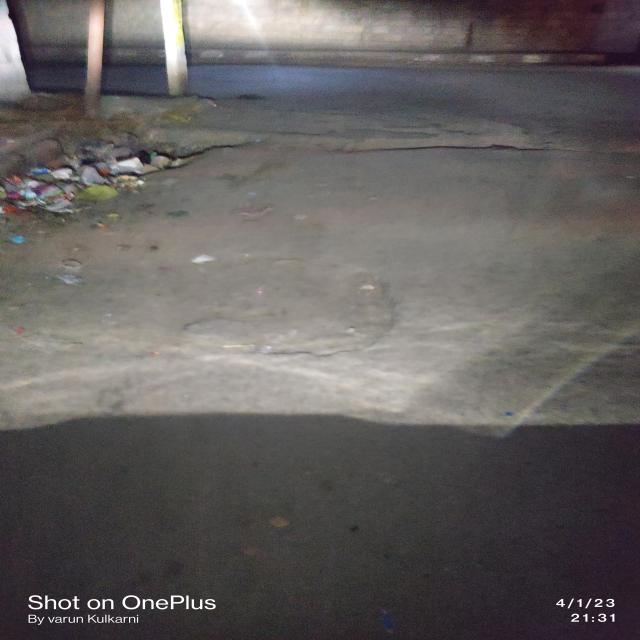potholes: (0, 254, 421, 345)
